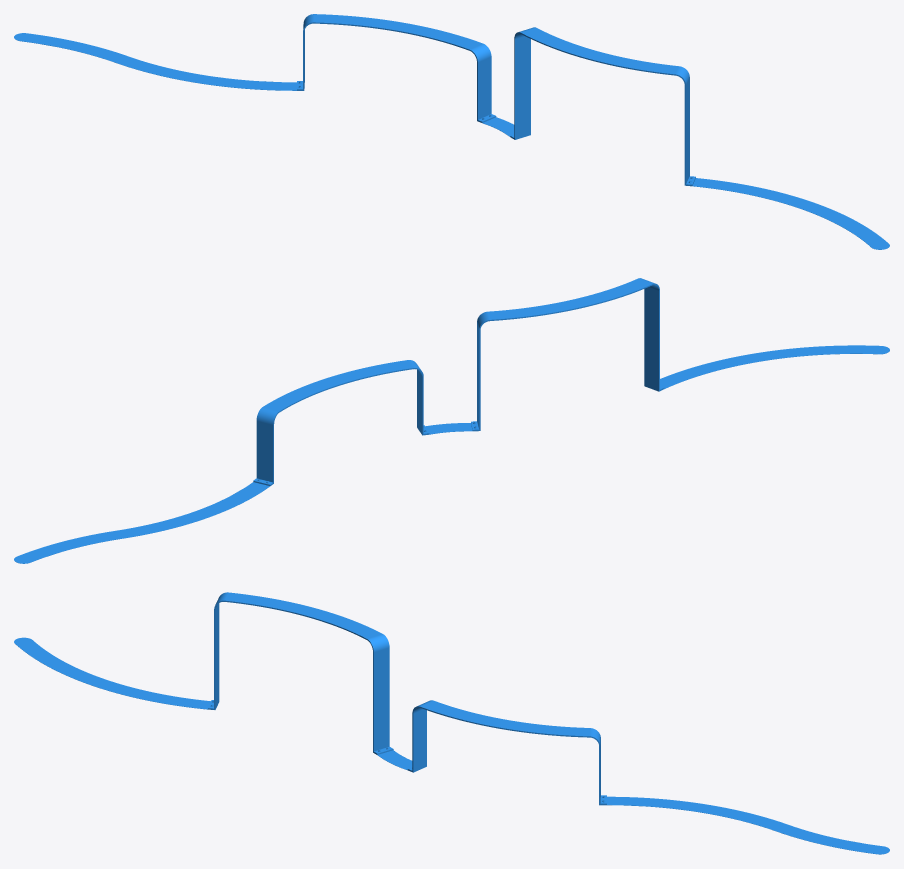
The picture shows the model from 3 angles, top to bottom: view 1: azimuth 90°, elevation 25°; view 2: azimuth 150°, elevation 25°; view 3: azimuth 270°, elevation 25°; orthographic projection.
Size of the model in its own units: 3.11 by 0.74 by 5.32.
